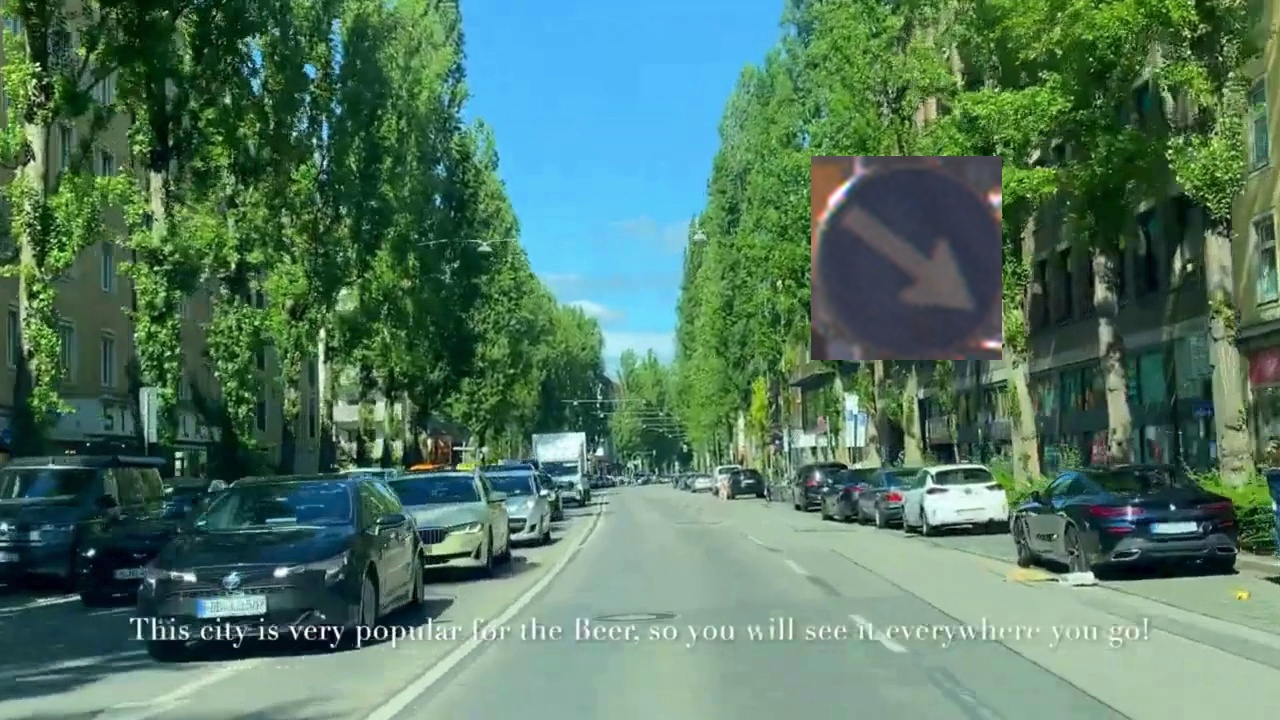Keep right: (811, 156, 1002, 360)
